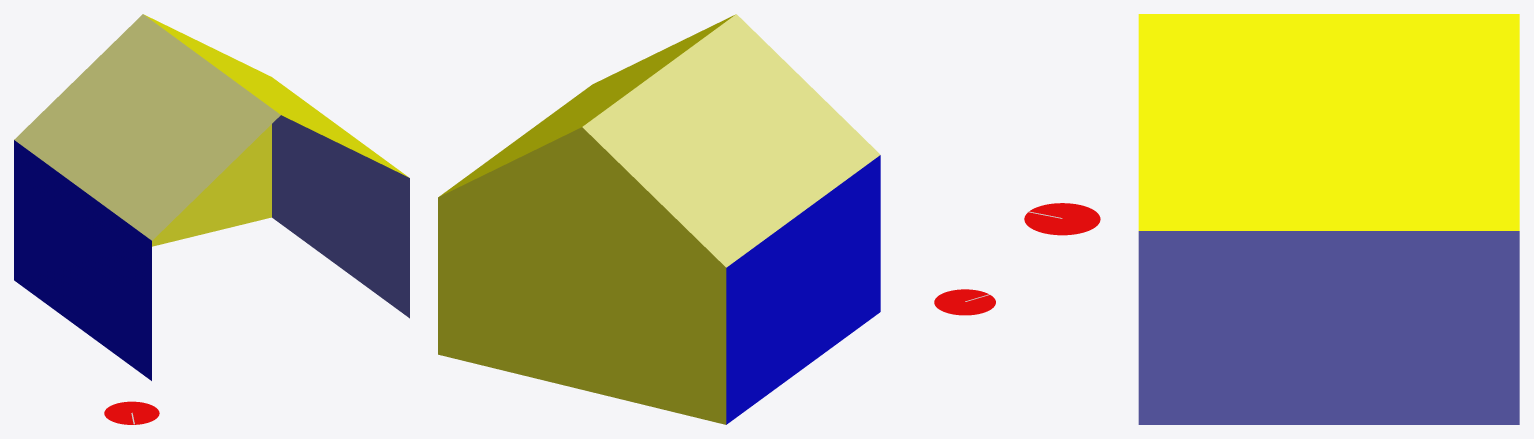
The model's file is result.glb.
3 renders of one model, left to right at view 1: azimuth 30°, elevation 25°; view 2: azimuth 150°, elevation 25°; view 3: azimuth 270°, elevation 25°, orthographic. The views are drawn at different scales.
Parts seen in each view (by area): view 1: 5a632c5c-ae0e-49c8-8ba6-8d2fb80c043c__undefined, 6bd39862-3c27-4794-8414-004860072c03__undefined, 98c9ce6b-f595-4dd2-97e1-f382fcd569d7__undefined, 4e78aea4-f79d-4755-af46-e4cf84083f15__undefined, 06365527-0ff3-40e2-a841-33fe38815c9d__undefined, 8c9e15c7-df97-4340-a6cd-ac73c182a7e5__Circle; view 2: 4e78aea4-f79d-4755-af46-e4cf84083f15__undefined, 5a632c5c-ae0e-49c8-8ba6-8d2fb80c043c__undefined, 6bd39862-3c27-4794-8414-004860072c03__undefined, 06365527-0ff3-40e2-a841-33fe38815c9d__undefined, 8c9e15c7-df97-4340-a6cd-ac73c182a7e5__Circle; view 3: 06365527-0ff3-40e2-a841-33fe38815c9d__undefined, 98c9ce6b-f595-4dd2-97e1-f382fcd569d7__undefined, 8c9e15c7-df97-4340-a6cd-ac73c182a7e5__Circle.
Part boxes in pixels (<box>): 5a632c5c-ae0e-49c8-8ba6-8d2fb80c043c__undefined: <box>14,14,280,240</box>; 6bd39862-3c27-4794-8414-004860072c03__undefined: <box>14,140,151,380</box>; 98c9ce6b-f595-4dd2-97e1-f382fcd569d7__undefined: <box>272,115,409,318</box>; 4e78aea4-f79d-4755-af46-e4cf84083f15__undefined: <box>152,124,271,246</box>; 06365527-0ff3-40e2-a841-33fe38815c9d__undefined: <box>144,14,408,177</box>; 8c9e15c7-df97-4340-a6cd-ac73c182a7e5__Circle: <box>104,401,159,424</box>; 4e78aea4-f79d-4755-af46-e4cf84083f15__undefined: <box>438,127,726,424</box>; 5a632c5c-ae0e-49c8-8ba6-8d2fb80c043c__undefined: <box>582,14,880,267</box>; 6bd39862-3c27-4794-8414-004860072c03__undefined: <box>726,155,880,424</box>; 06365527-0ff3-40e2-a841-33fe38815c9d__undefined: <box>439,14,735,196</box>; 8c9e15c7-df97-4340-a6cd-ac73c182a7e5__Circle: <box>934,289,995,315</box>; 06365527-0ff3-40e2-a841-33fe38815c9d__undefined: <box>1138,14,1519,230</box>; 98c9ce6b-f595-4dd2-97e1-f382fcd569d7__undefined: <box>1138,231,1519,424</box>; 8c9e15c7-df97-4340-a6cd-ac73c182a7e5__Circle: <box>1024,203,1100,235</box>.
Size of the model in its own units: 689 by 469 by 650.
